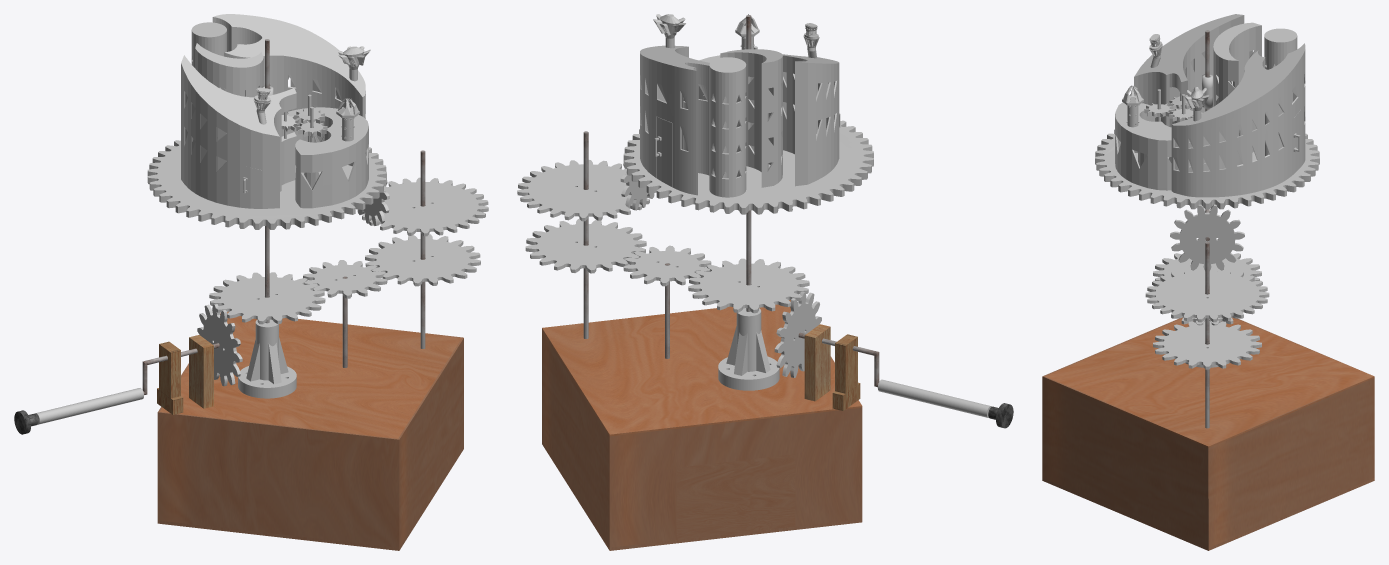
The model's file is World.Final.fbx.
3 renders of one model, left to right at view 1: azimuth 30°, elevation 25°; view 2: azimuth 150°, elevation 25°; view 3: azimuth 270°, elevation 25°, orthographic. The views are drawn at different scales.
Parts seen in each view (by area): view 1: Box.Walls, Box.Lid, House.1, House.3.FINAL, Gear.A, House.2, Gear.B, Gear.D, Gear.F, Support.Final.Shaft.2.H v1, House.5.Final, Gear.E (+12 smaller); view 2: Box.Walls, Box.Lid, Box.Door, House.3.FINAL, Gear.A, House.1, Gear.B, House.4, House.5.Final, Gear.D, Gear.F, Support.Final.Shaft.2.H v1 (+11 smaller); view 3: Box.Walls, Box.Lid, House.3.FINAL, Gear.B, House.1, House.2, Gear.A, Gear.F, Gear.C, House.5.Final, Gear.D, Box,Bottom (+5 smaller).
Boxes of the visible parts, x1,y1,x2,y2 form: Box.Walls: [157, 328, 463, 547]; Box.Lid: [160, 311, 463, 439]; House.1: [181, 55, 296, 208]; House.3.FINAL: [212, 14, 365, 141]; Gear.A: [147, 140, 386, 229]; House.2: [283, 107, 368, 208]; Gear.B: [357, 177, 488, 236]; Gear.D: [209, 272, 325, 324]; Gear.F: [365, 234, 480, 286]; Support.Final.Shaft.2.H v1: [238, 319, 296, 398]; House.5.Final: [195, 43, 263, 97]; Gear.E: [303, 260, 387, 298]; Box.Walls: [542, 300, 862, 547]; Box.Lid: [542, 300, 862, 436]; Box.Door: [676, 454, 795, 539]; House.3.FINAL: [640, 45, 709, 195]; Gear.A: [623, 120, 873, 214]; House.1: [782, 54, 839, 186]; Gear.B: [517, 160, 654, 221]; House.4: [709, 57, 746, 197]; House.5.Final: [720, 49, 782, 187]; Gear.D: [688, 258, 809, 313]; Gear.F: [525, 219, 646, 273]; Support.Final.Shaft.2.H v1: [718, 308, 779, 390]; Box.Walls: [1042, 317, 1374, 547]; Box.Lid: [1043, 317, 1374, 447]; House.3.FINAL: [1171, 43, 1305, 197]; Gear.B: [1145, 267, 1269, 322]; House.1: [1134, 14, 1244, 127]; House.2: [1115, 102, 1205, 190]; Gear.A: [1095, 129, 1319, 209]; Gear.F: [1153, 321, 1261, 369]; Gear.C: [1170, 204, 1244, 270]; House.5.Final: [1213, 22, 1261, 135]; Gear.D: [1153, 253, 1261, 281]; Box,Bottom: [1042, 478, 1374, 550].
Size of the model in its own units: 90.35 by 85.9 by 60.25.
